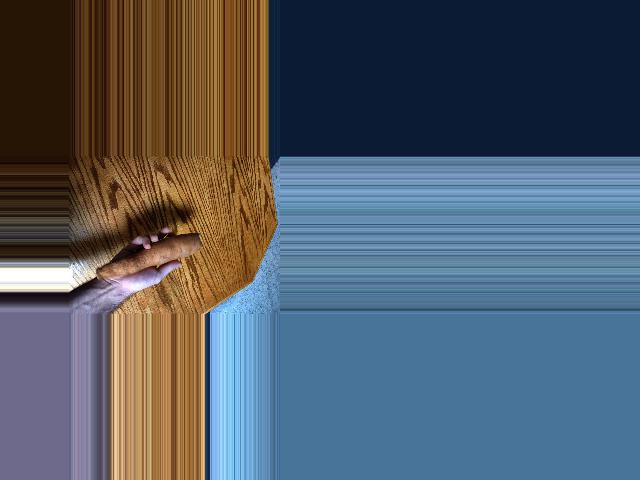sweet_potato: (98, 230, 201, 282)
